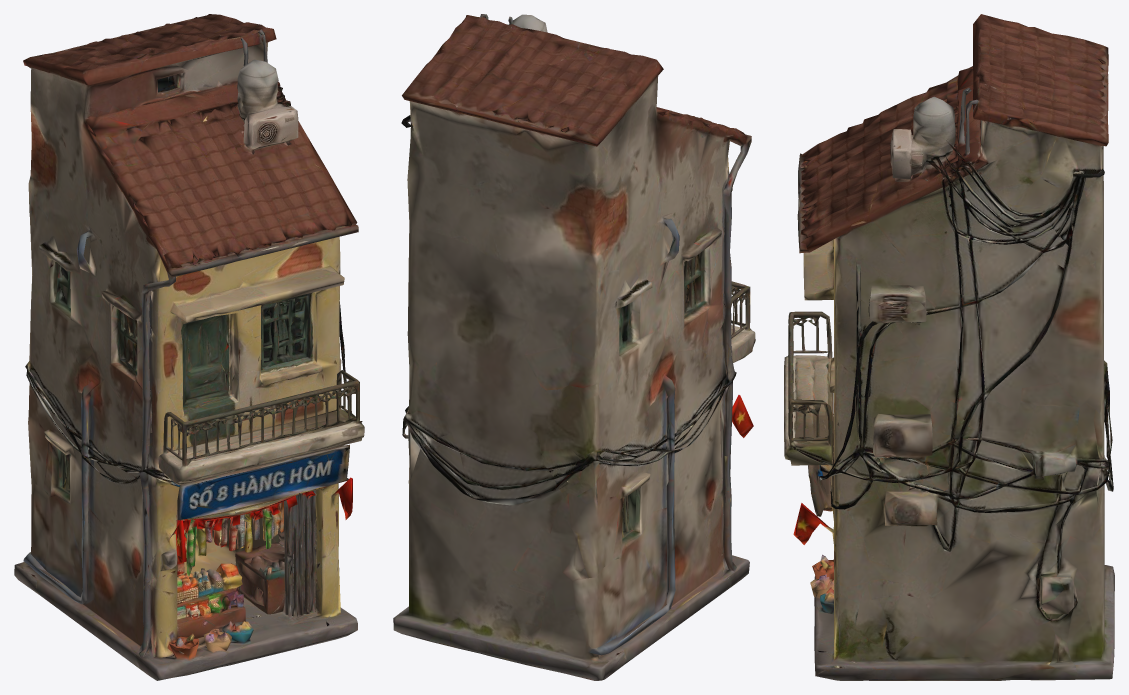
Rendered from bld_shophouse.glb.
The picture shows the model from 3 angles, left to right: view 1: azimuth 30°, elevation 25°; view 2: azimuth 150°, elevation 25°; view 3: azimuth 270°, elevation 25°; orthographic projection. The views are drawn at different scales.
Visible parts, largest first — view 1: bld_shophouse; view 2: bld_shophouse; view 3: bld_shophouse.
Boxes of the visible parts, x1,y1,x2,y2 form: bld_shophouse: (14,14,364,680); bld_shophouse: (393,14,755,680); bld_shophouse: (784,14,1114,680).
Bounding box in the file's own units: 0.7857 × 1.9 × 0.9945.
Materials: 1 (1 with a texture image).
